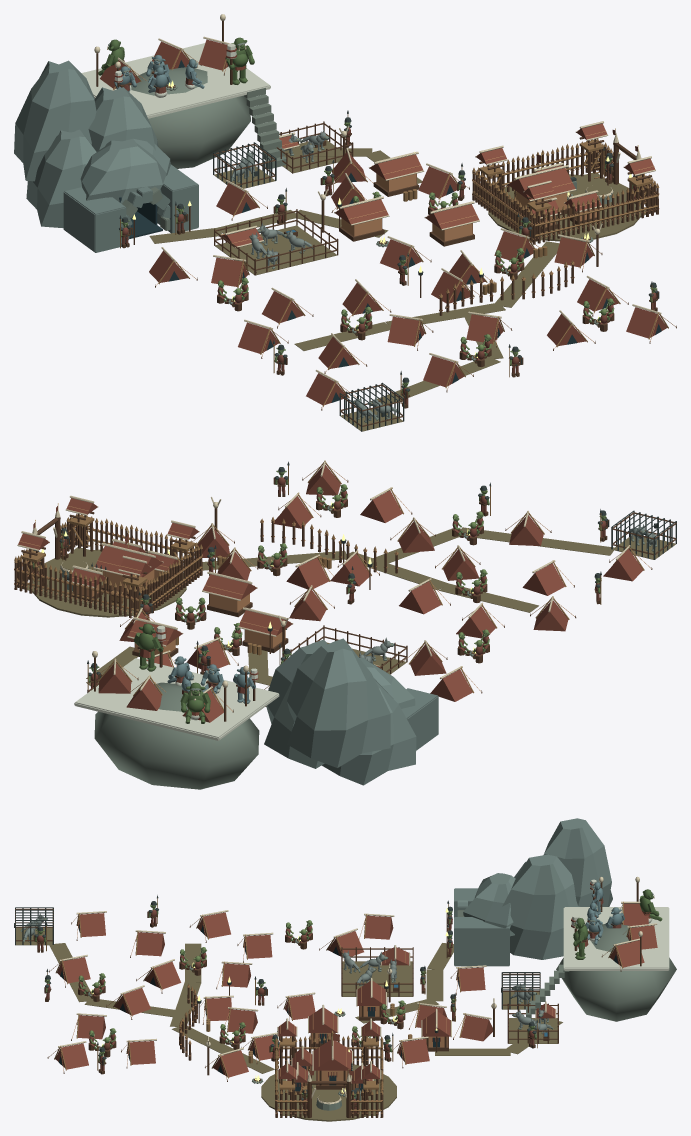
File: fortified-warcamp-v4.glb
The picture shows the model from 3 angles, top to bottom: view 1: azimuth 30°, elevation 25°; view 2: azimuth 150°, elevation 25°; view 3: azimuth 270°, elevation 25°; orthographic projection. The views are drawn at different scales.
Parts seen in each view (by area): view 1: fortified-warcamp-v4 Red ochre hide.001, fortified-warcamp-v4 Faceted mountain granite.001, fortified-warcamp-v4 Dark timber beams.001, fortified-warcamp-v4 Packed camp earth.001, fortified-warcamp-v4 Weathered foundation.001, fortified-warcamp-v4 Warm cut timber.001, fortified-warcamp-v4 Weathered tusk ivory.001, fortified-warcamp-v4 Hide seams.001, fortified-warcamp-v4 Alpine white limestone.001, fortified-warcamp-v4 Black forged iron.001, fortified-warcamp-v4 Tribal red cloth.001, fortified-warcamp-v4 Wolf grey fur.001 (+4 smaller); view 2: fortified-warcamp-v4 Red ochre hide.001, fortified-warcamp-v4 Faceted mountain granite.001, fortified-warcamp-v4 Dark timber beams.001, fortified-warcamp-v4 Weathered foundation.001, fortified-warcamp-v4 Packed camp earth.001, fortified-warcamp-v4 Warm cut timber.001, fortified-warcamp-v4 Alpine white limestone.001, fortified-warcamp-v4 Hide seams.001, fortified-warcamp-v4 Weathered tusk ivory.001, fortified-warcamp-v4 Tribal red cloth.001, fortified-warcamp-v4 Orc jaw and ears.001, fortified-warcamp-v4 Black forged iron.001 (+3 smaller); view 3: fortified-warcamp-v4 Red ochre hide.001, fortified-warcamp-v4 Faceted mountain granite.001, fortified-warcamp-v4 Packed camp earth.001, fortified-warcamp-v4 Dark timber beams.001, fortified-warcamp-v4 Weathered foundation.001, fortified-warcamp-v4 Warm cut timber.001, fortified-warcamp-v4 Alpine white limestone.001, fortified-warcamp-v4 Weathered tusk ivory.001, fortified-warcamp-v4 Black forged iron.001, fortified-warcamp-v4 Hide seams.001, fortified-warcamp-v4 Tribal red cloth.001, fortified-warcamp-v4 Olive orc skin.001 (+4 smaller).
Boxes of the visible parts, x1=… form: fortified-warcamp-v4 Red ochre hide.001: x1=100, y1=39, x2=667, y2=405; fortified-warcamp-v4 Faceted mountain granite.001: x1=14, y1=60, x2=198, y2=252; fortified-warcamp-v4 Dark timber beams.001: x1=96, y1=21, x2=676, y2=426; fortified-warcamp-v4 Packed camp earth.001: x1=149, y1=140, x2=649, y2=431; fortified-warcamp-v4 Weathered foundation.001: x1=108, y1=42, x2=613, y2=422; fortified-warcamp-v4 Warm cut timber.001: x1=113, y1=48, x2=668, y2=406; fortified-warcamp-v4 Weathered tusk ivory.001: x1=94, y1=14, x2=661, y2=386; fortified-warcamp-v4 Hide seams.001: x1=113, y1=50, x2=675, y2=408; fortified-warcamp-v4 Alpine white limestone.001: x1=81, y1=43, x2=270, y2=118; fortified-warcamp-v4 Black forged iron.001: x1=119, y1=110, x2=659, y2=431; fortified-warcamp-v4 Tribal red cloth.001: x1=121, y1=74, x2=656, y2=404; fortified-warcamp-v4 Wolf grey fur.001: x1=231, y1=129, x2=396, y2=421; fortified-warcamp-v4 Red ochre hide.001: x1=18, y1=465, x2=643, y2=722; fortified-warcamp-v4 Faceted mountain granite.001: x1=264, y1=638, x2=438, y2=785; fortified-warcamp-v4 Dark timber beams.001: x1=14, y1=477, x2=676, y2=721; fortified-warcamp-v4 Weathered foundation.001: x1=60, y1=505, x2=657, y2=789; fortified-warcamp-v4 Packed camp earth.001: x1=24, y1=527, x2=675, y2=686; fortified-warcamp-v4 Warm cut timber.001: x1=14, y1=461, x2=644, y2=710; fortified-warcamp-v4 Alpine white limestone.001: x1=74, y1=626, x2=279, y2=740; fortified-warcamp-v4 Hide seams.001: x1=14, y1=467, x2=651, y2=711; fortified-warcamp-v4 Weathered tusk ivory.001: x1=17, y1=460, x2=630, y2=700; fortified-warcamp-v4 Tribal red cloth.001: x1=33, y1=477, x2=606, y2=694; fortified-warcamp-v4 Orc jaw and ears.001: x1=33, y1=483, x2=606, y2=723; fortified-warcamp-v4 Black forged iron.001: x1=32, y1=461, x2=676, y2=677; fortified-warcamp-v4 Red ochre hide.001: x1=55, y1=882, x2=657, y2=1087; fortified-warcamp-v4 Faceted mountain granite.001: x1=454, y1=818, x2=612, y2=966; fortified-warcamp-v4 Packed camp earth.001: x1=16, y1=927, x2=562, y2=1121; fortified-warcamp-v4 Dark timber beams.001: x1=15, y1=882, x2=650, y2=1118; fortified-warcamp-v4 Weathered foundation.001: x1=20, y1=884, x2=676, y2=1110; fortified-warcamp-v4 Warm cut timber.001: x1=46, y1=898, x2=632, y2=1114; fortified-warcamp-v4 Alpine white limestone.001: x1=563, y1=879, x2=669, y2=970; fortified-warcamp-v4 Weathered tusk ivory.001: x1=44, y1=876, x2=657, y2=1104; fortified-warcamp-v4 Black forged iron.001: x1=14, y1=895, x2=540, y2=1103; fortified-warcamp-v4 Hide seams.001: x1=48, y1=905, x2=629, y2=1113; fortified-warcamp-v4 Tribal red cloth.001: x1=36, y1=897, x2=621, y2=1112; fortified-warcamp-v4 Olive orc skin.001: x1=35, y1=903, x2=536, y2=1103.
Bounding box in the file's own units: 32.24 × 9.55 × 43.85.
